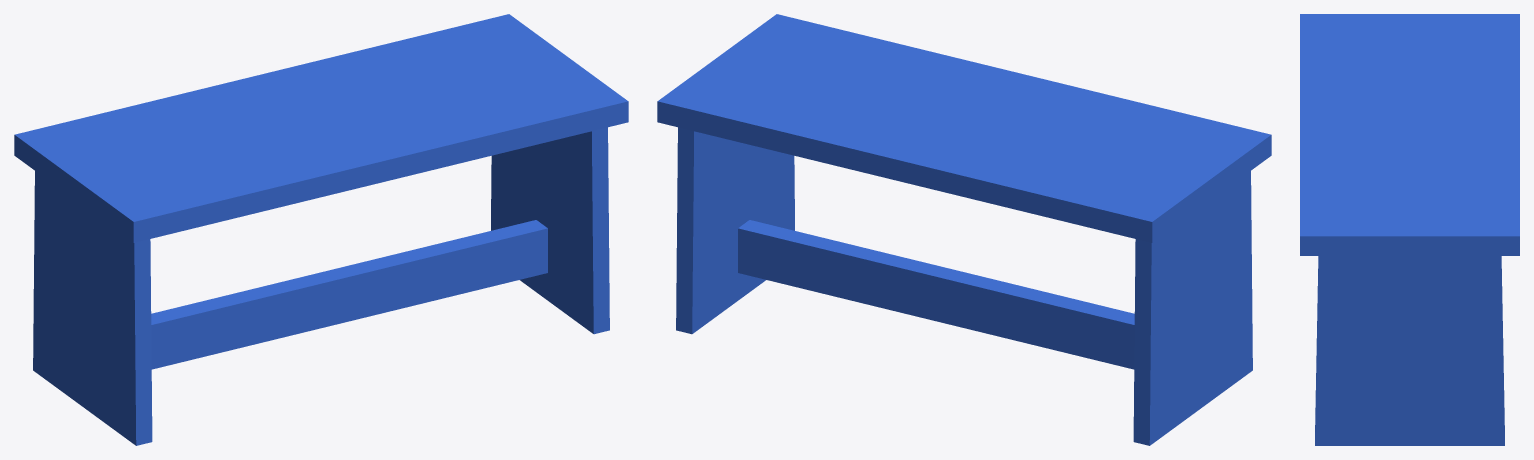
Rendered from Collision_Desk.fbx.
3 renders of one model, left to right at view 1: azimuth 30°, elevation 25°; view 2: azimuth 150°, elevation 25°; view 3: azimuth 270°, elevation 25°, orthographic. The views are drawn at different scales.
Visible parts, largest first — view 1: UCX_Desk_1, UCX_Desk_3, UCX_Desk_2, UCX_Desk_4; view 2: UCX_Desk_1, UCX_Desk_3, UCX_Desk_2, UCX_Desk_4; view 3: UCX_Desk_1, UCX_Desk_4.
Part boxes in pixels (<box>): UCX_Desk_1: <box>14,14,628,242</box>; UCX_Desk_3: <box>33,171,152,445</box>; UCX_Desk_2: <box>151,220,547,369</box>; UCX_Desk_4: <box>491,127,609,334</box>; UCX_Desk_1: <box>657,14,1271,242</box>; UCX_Desk_3: <box>1133,171,1252,445</box>; UCX_Desk_2: <box>738,220,1134,369</box>; UCX_Desk_4: <box>676,127,794,334</box>; UCX_Desk_1: <box>1300,14,1519,255</box>; UCX_Desk_4: <box>1315,256,1504,445</box>.
Size of the model in its own units: 186 by 83.71 by 77.89.
